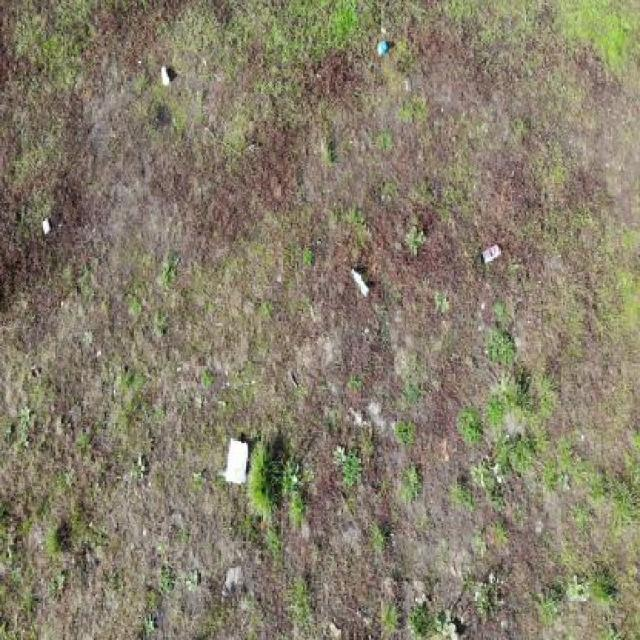Garbage: (216, 437, 249, 487), (352, 269, 370, 300), (478, 244, 500, 265), (160, 67, 171, 88), (40, 218, 52, 235), (376, 39, 388, 56)
